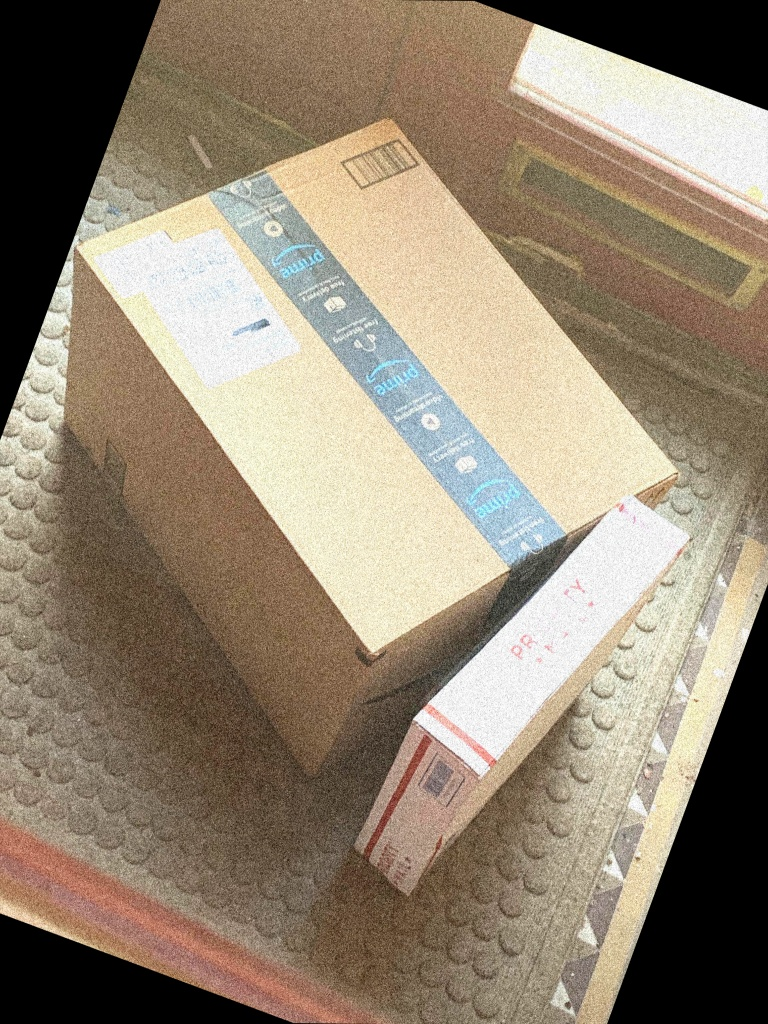good-parcel: (55, 116, 673, 787), (346, 496, 702, 907)
